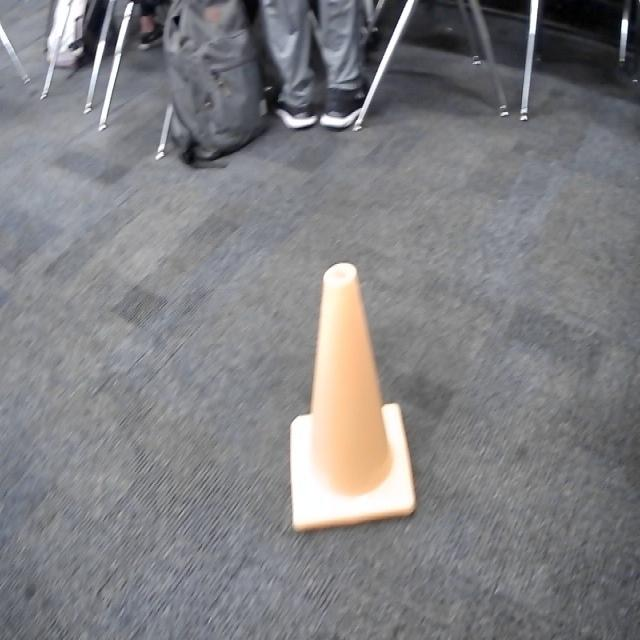cone: (283, 258, 418, 537)
